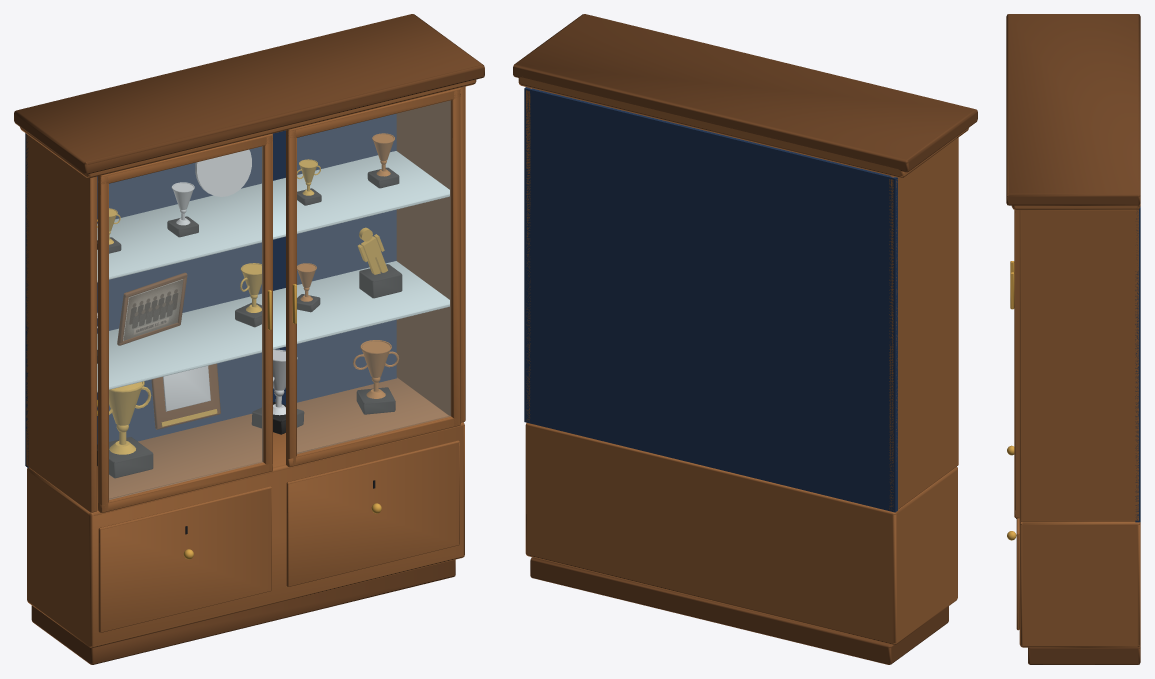
Rendered from trophy_cabinet.glb.
3 renders of one model, left to right at view 1: azimuth 30°, elevation 25°; view 2: azimuth 150°, elevation 25°; view 3: azimuth 270°, elevation 25°, orthographic. The views are drawn at different scales.
Parts seen in each view (by area): view 1: TrophyCabinetBody, Glass_Cabinet0, Glass_Cabinet1; view 2: TrophyCabinetBody; view 3: TrophyCabinetBody.
Boxes of the visible parts, <box> form: TrophyCabinetBody: <box>14,14,484,664</box>; Glass_Cabinet0: <box>109,146,262,499</box>; Glass_Cabinet1: <box>297,101,450,453</box>; TrophyCabinetBody: <box>513,14,977,664</box>; TrophyCabinetBody: <box>1006,14,1140,664</box>.
Bounding box in the file's own units: 1.6 × 1.97 × 0.5.
18 materials, 1 textured.
